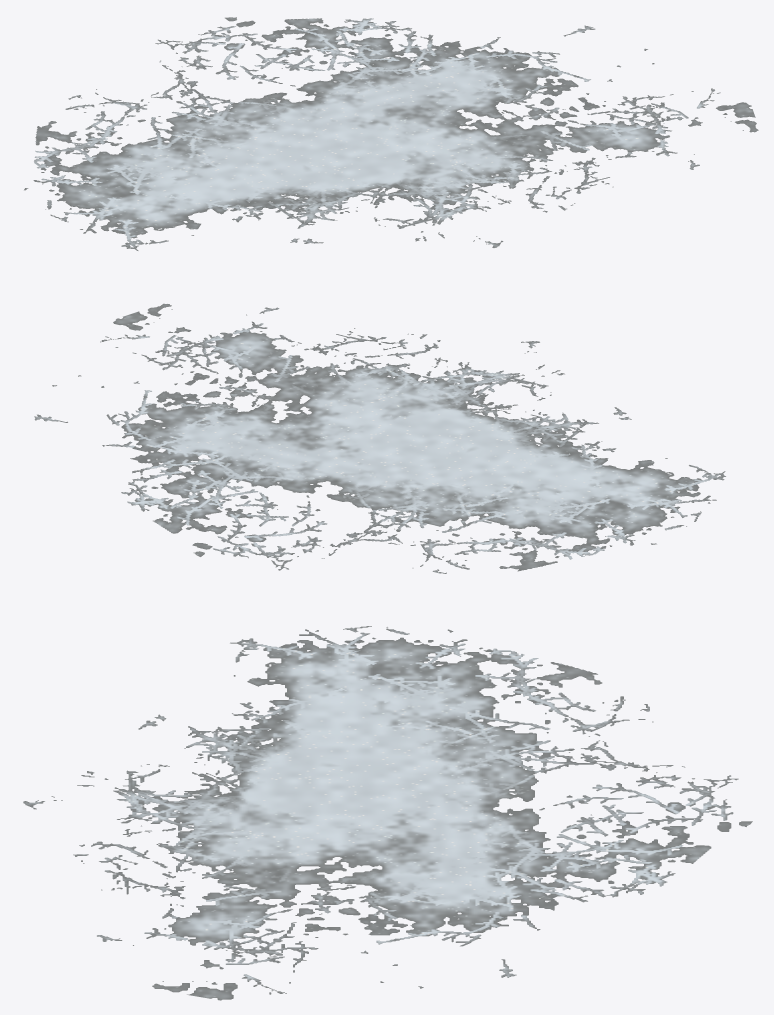
Rendered from fm_frost_patch_large.glb.
3 views of the same model, one above another, from view 1: azimuth 30°, elevation 25°; view 2: azimuth 150°, elevation 25°; view 3: azimuth 270°, elevation 25° (orthographic). The views are drawn at different scales.
Visible parts, largest first — view 1: fm_frost_patch_large; view 2: fm_frost_patch_large; view 3: fm_frost_patch_large.
Part boxes in pixels (x1,y1,x2,y2): fm_frost_patch_large: (24, 17, 758, 250); fm_frost_patch_large: (34, 303, 725, 573); fm_frost_patch_large: (23, 626, 752, 1000).
Size of the model in its own units: 2.02 by 0.003 by 1.62.
1 material, 1 textured.
